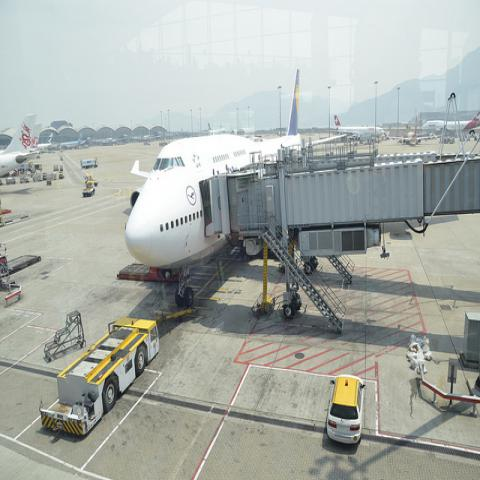car: (327, 372, 366, 442), (59, 174, 64, 179)
truck: (40, 316, 160, 436), (80, 157, 98, 168)
